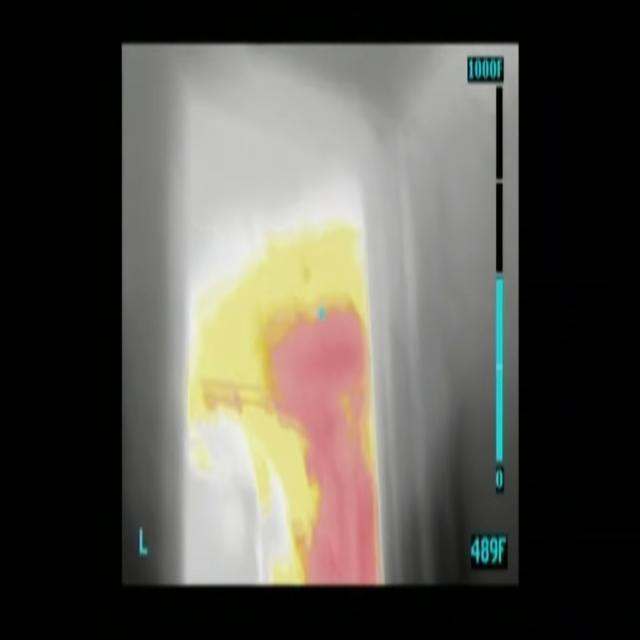fire: (272, 289, 382, 590)
